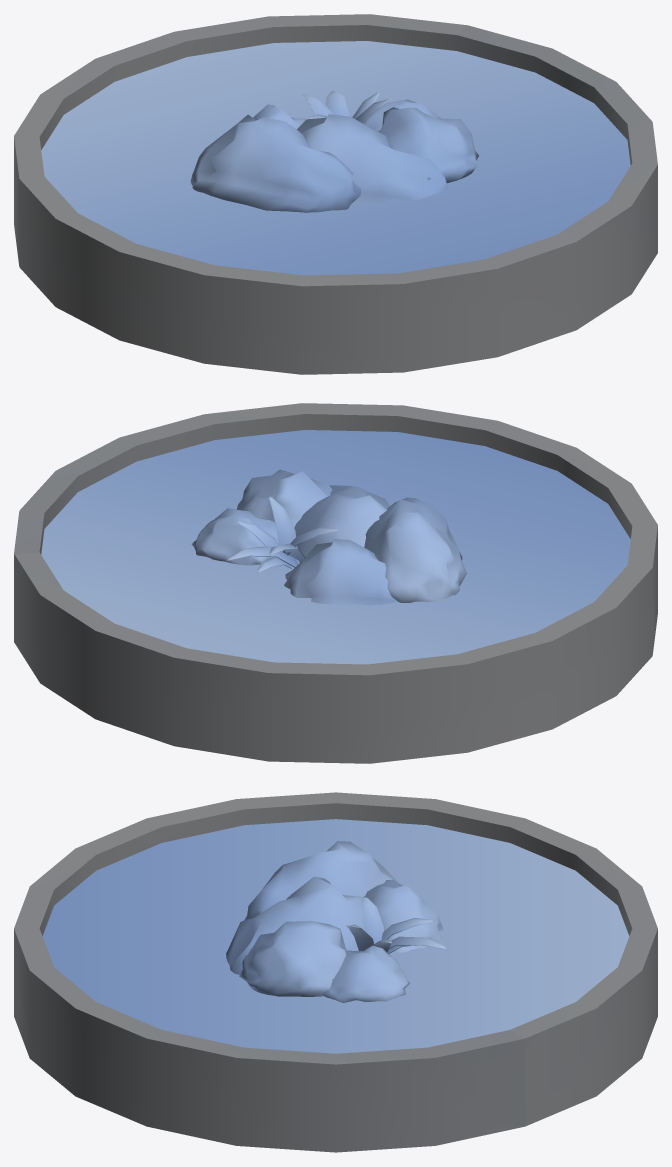
File: pyoreaistutus.fbx
3 views of the same model, one above another, from view 1: azimuth 30°, elevation 25°; view 2: azimuth 150°, elevation 25°; view 3: azimuth 270°, elevation 25° (orthographic).
Visible parts, largest first — view 1: pCylinder2; view 2: pCylinder2; view 3: pCylinder2.
Boxes of the visible parts, left/top/right/bottom form: pCylinder2: left=14, top=14, right=657, bottom=374; pCylinder2: left=14, top=403, right=657, bottom=763; pCylinder2: left=14, top=792, right=657, bottom=1152.
Bounding box in the file's own units: 40.35 × 9.41 × 40.35.
